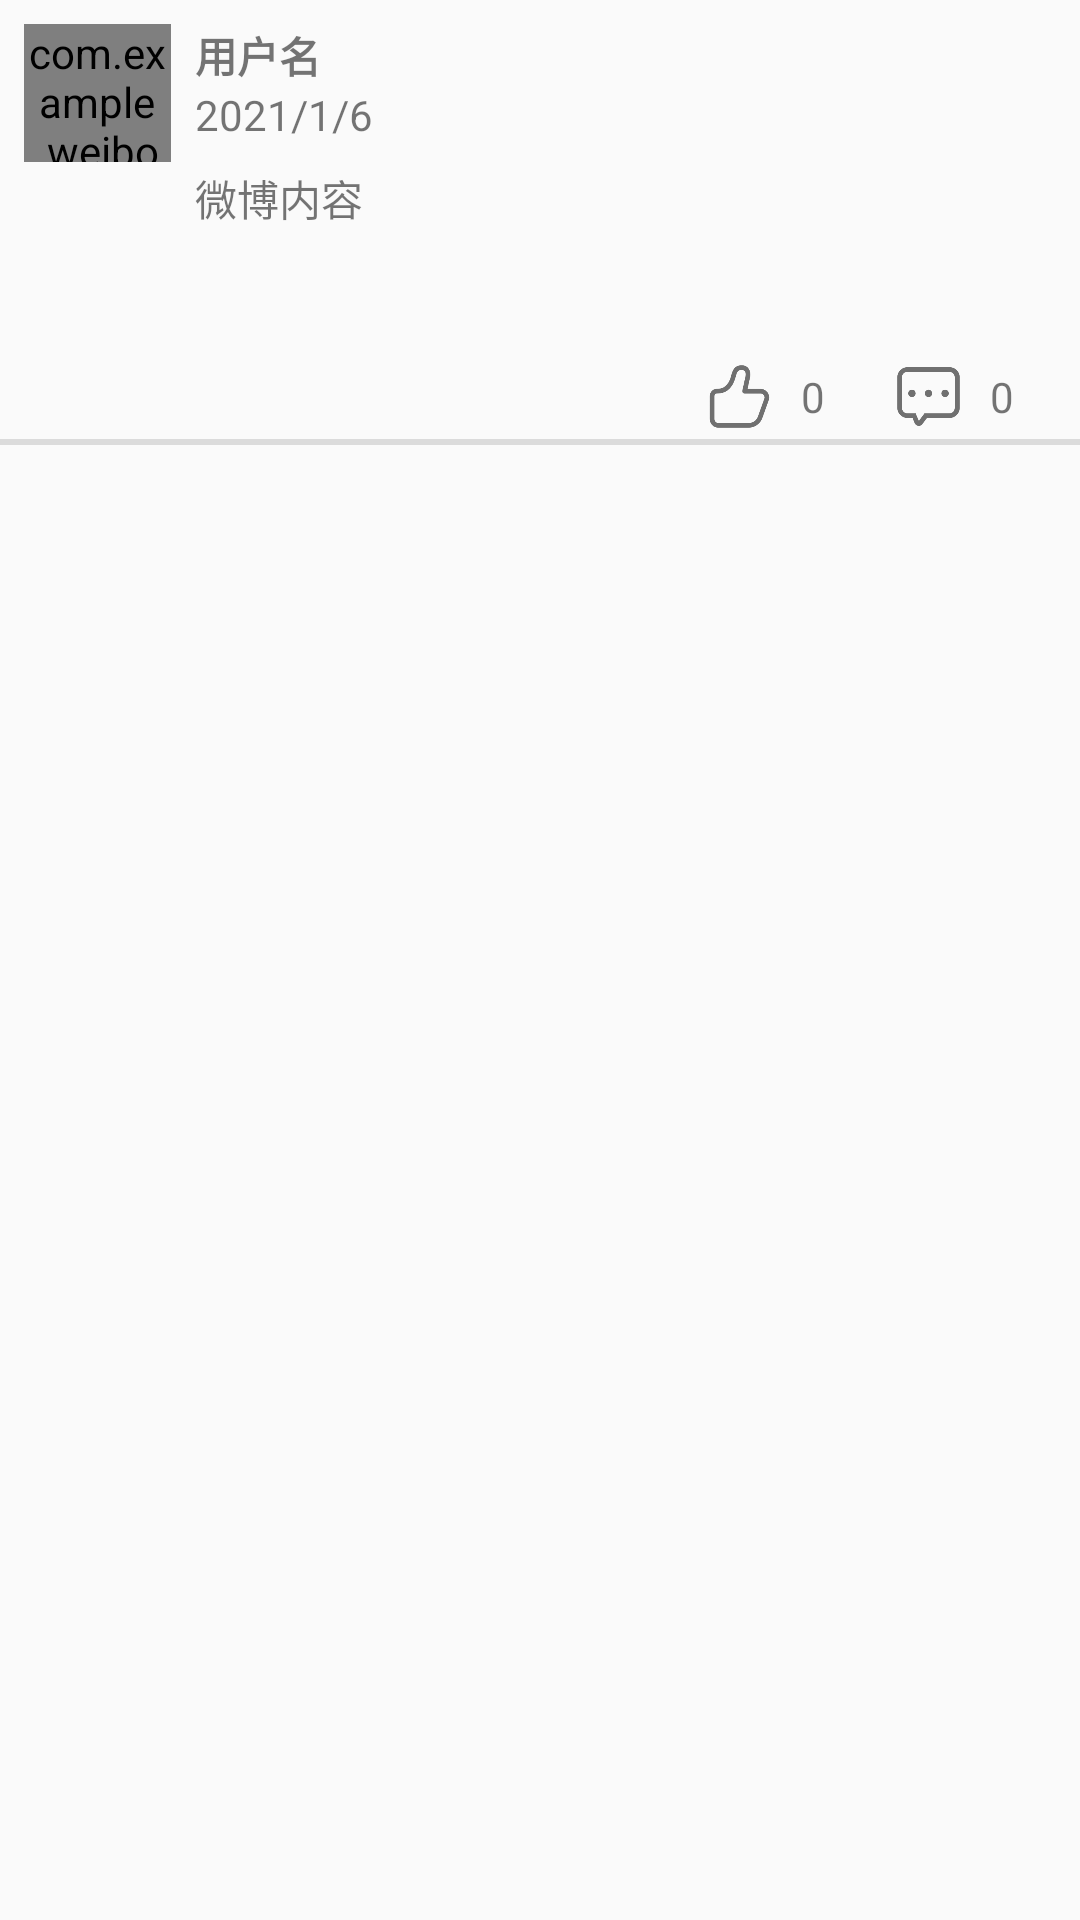

Screen size 1080px×1920px. Icon name, then its center in pixels as (x=x, y=y):
applaud: (x=739, y=396)
comment: (x=928, y=396)
